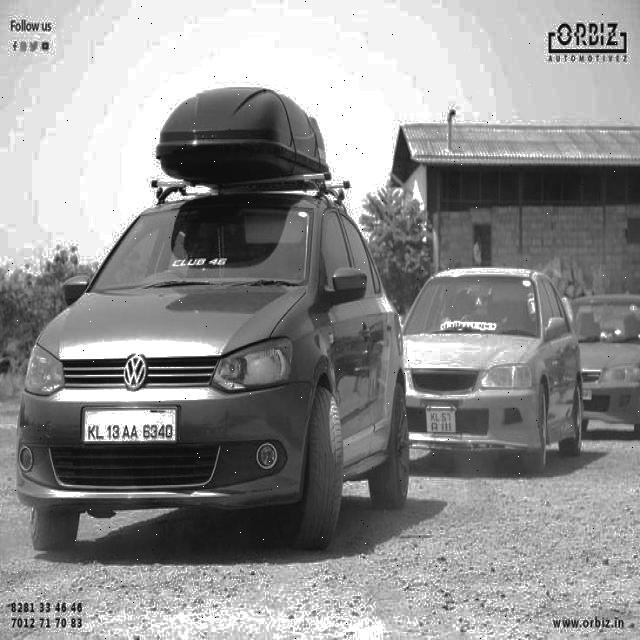Car: (19, 175, 415, 608), (402, 252, 584, 504), (572, 276, 640, 459)
